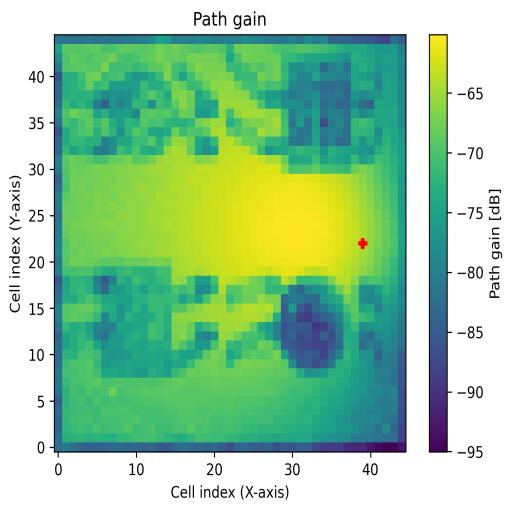Concrete: (281, 54, 374, 164)
Glass: (109, 61, 194, 155)
Metal: (280, 274, 352, 379)
Wood: (102, 265, 172, 377)
